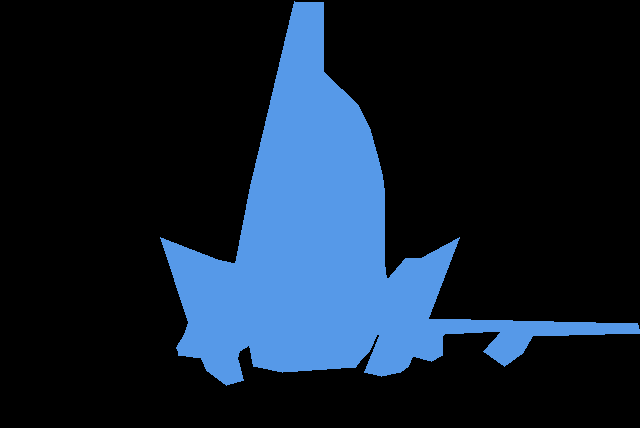Airplane: (160, 1, 640, 386)
